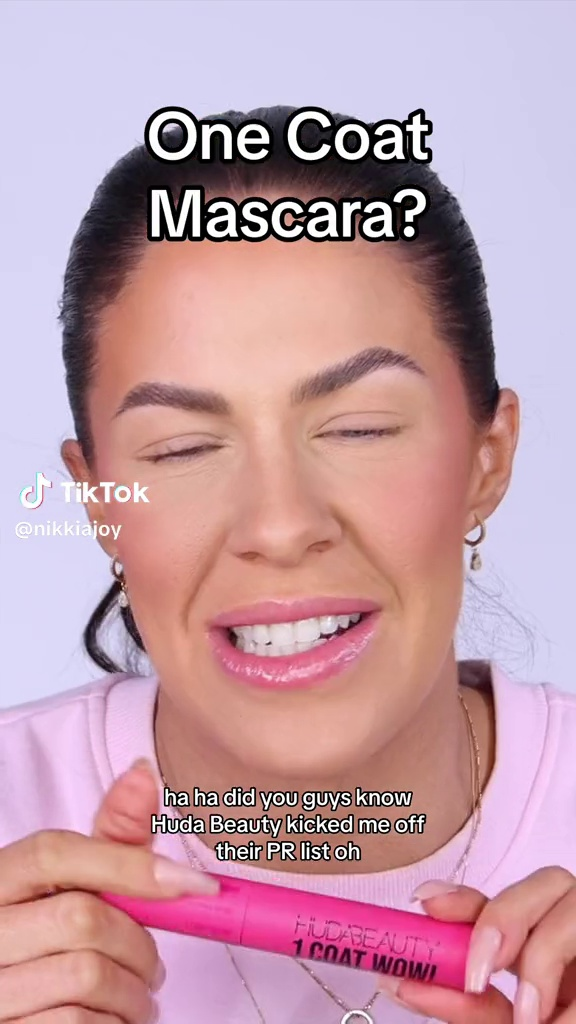train' :'yolo_data/train/images',: (77, 848, 507, 1000)
